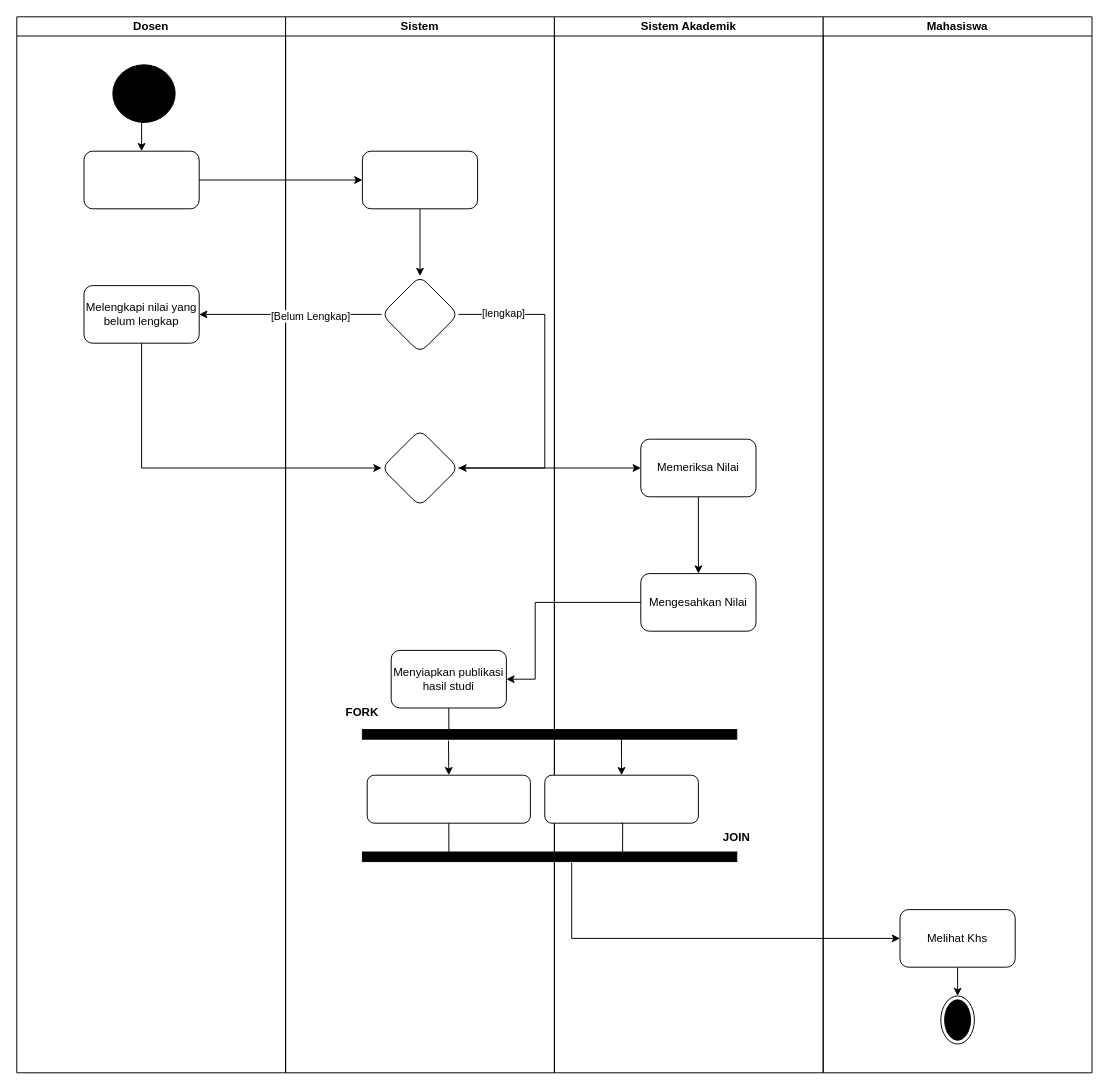
The diagram is 1109 pixels wide and 1090 high, and some of its shapes have lost their labels. The shapes that lost their labels are listed below. From the top down, each one's centre as x and y in pixels, then its label:
the point at 141,179: Memasuka Nilai mata kuliah
the point at 419,179: Menyimapa Nilai
the point at 419,314: Nilai Sudah Lengkap?
the point at 448,798: Menerbitkan KHS pada portal Akademik
the point at 621,798: mengirim pemeberitahuan hasil studi
